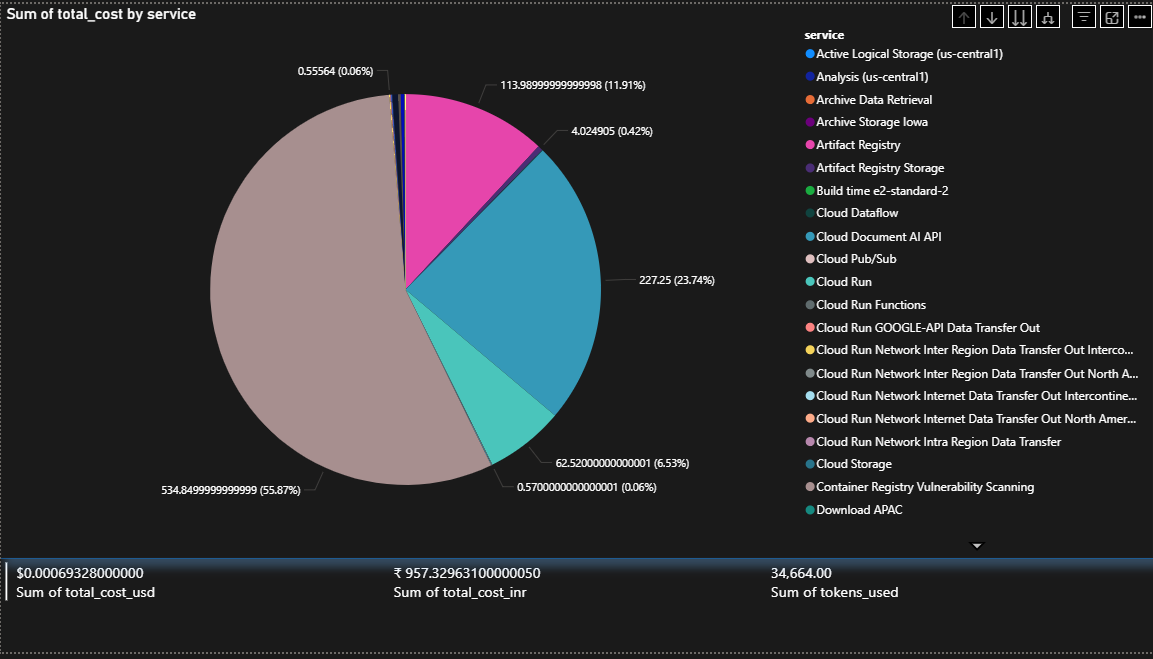

The dashboard page shown, as its layout file describes it:
{"tool":"powerbi","page":{"name":"Page 3","canvas":[1280,720],"ordinal":2},"visuals":[{"type":"multiRowCard","fields":{"Values":["Sum(total_costs.total_cost_usd)","Sum(total_costs.total_cost_inr)","Sum(total_costs.tokens_used)"]},"box":[0,615.6,1280,104.4],"z":0},{"type":"pieChart","fields":{"Category":["total_costs.service","total_costs.date.Variation.Date Hierarchy.Year"],"Y":["Sum(total_costs.total_cost)"]},"box":[0,0,1280,615.6],"z":1000}]}

Visuals, with their boxes on the page's 1280x720 design canvas (x1, y1, x2, y2). These are canvas units, not pixel positions in the 1153x659 screenshot, which may show the page scaled, cropped or inside an application window:
multiRowCard - Sum(total_costs.total_cost_usd) x Sum(total_costs.total_cost_inr): 0/616/1280/720
pieChart - total_costs.service x total_costs.date.Variation.Date Hierarchy.Year: 0/0/1280/616
